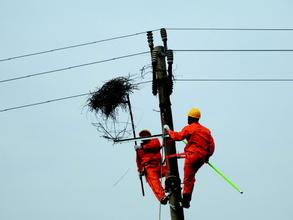bird-nest: (86, 78, 132, 110)
